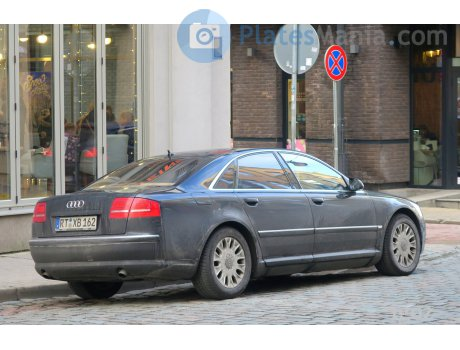License Plates: (59, 218, 97, 226)
